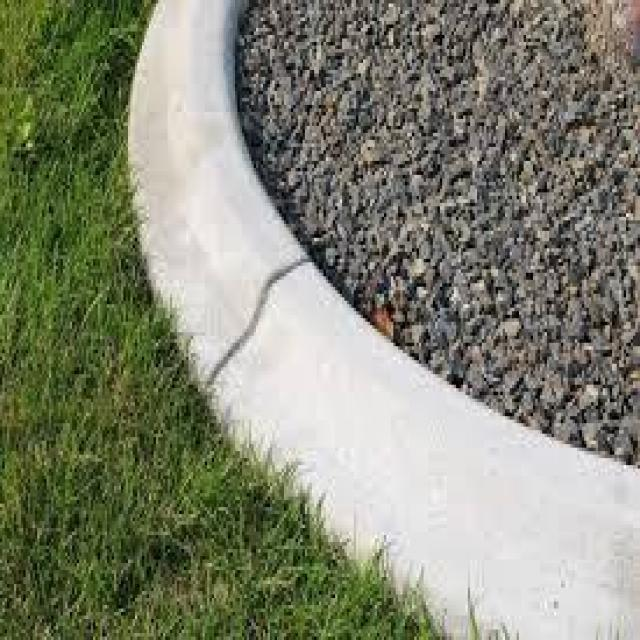curb: (196, 269, 509, 547), (122, 8, 285, 363), (366, 471, 637, 640)
